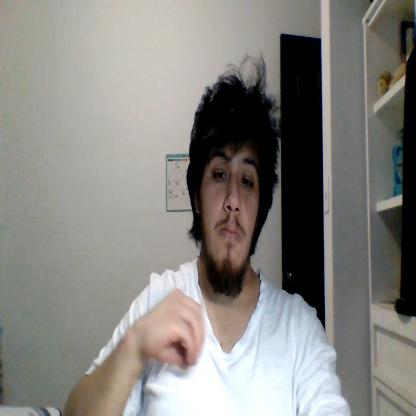O: (145, 288, 205, 370)
